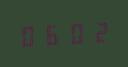six: (41, 21, 63, 46)
two: (87, 18, 109, 44)
zero: (18, 22, 40, 48), (64, 19, 86, 45)
